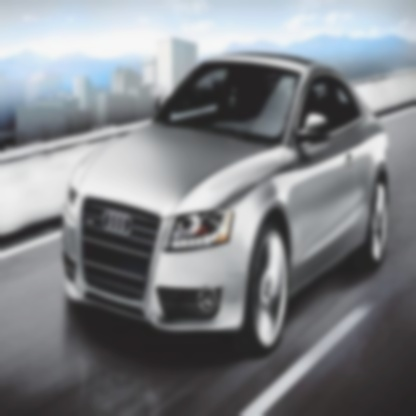Vehicle: (62, 46, 394, 362)
